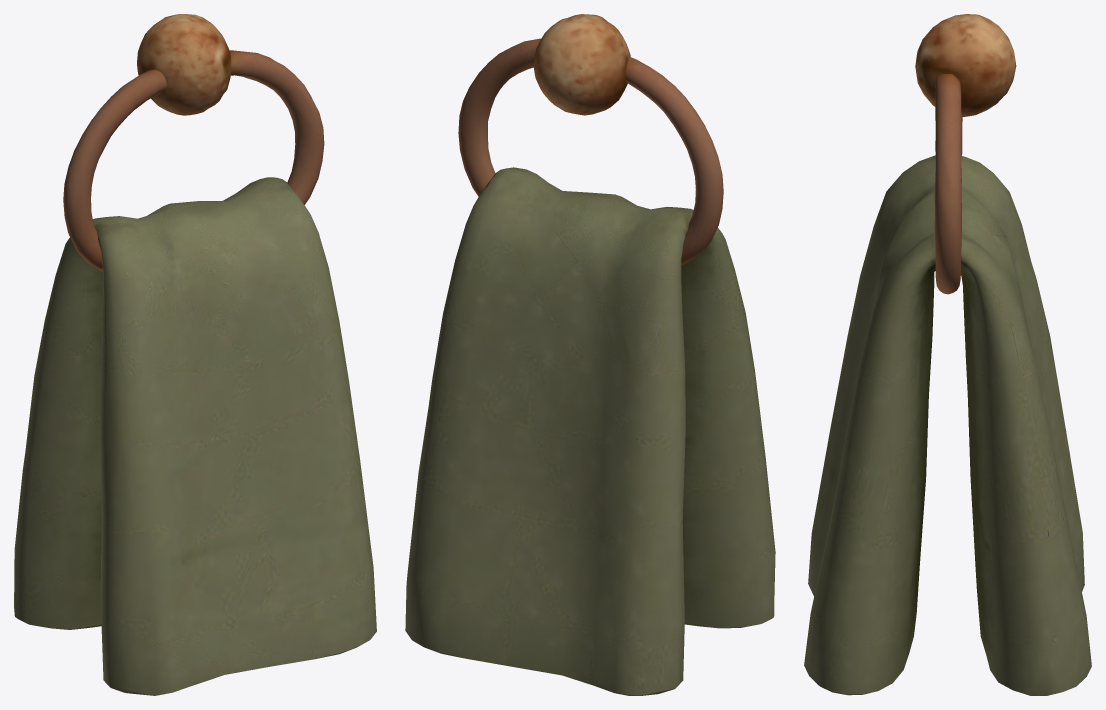
File: bathroom_towel_ring.glb
3 renders of one model, left to right at view 1: azimuth 30°, elevation 25°; view 2: azimuth 150°, elevation 25°; view 3: azimuth 270°, elevation 25°, orthographic. The views are drawn at different scales.
Visible parts, largest first — view 1: geometry_0; view 2: geometry_0; view 3: geometry_0.
Boxes of the visible parts, bbox=[...] form: geometry_0: bbox=[14, 14, 376, 695]; geometry_0: bbox=[405, 14, 775, 695]; geometry_0: bbox=[804, 14, 1091, 695].
Bounding box in the file's own units: 0.4639 × 1 × 0.4272.
1 material, 1 textured.
